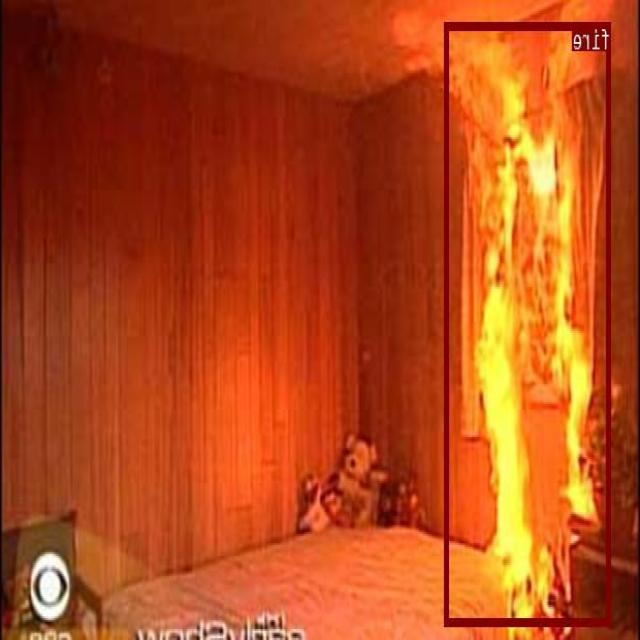fire: (445, 21, 612, 624)
